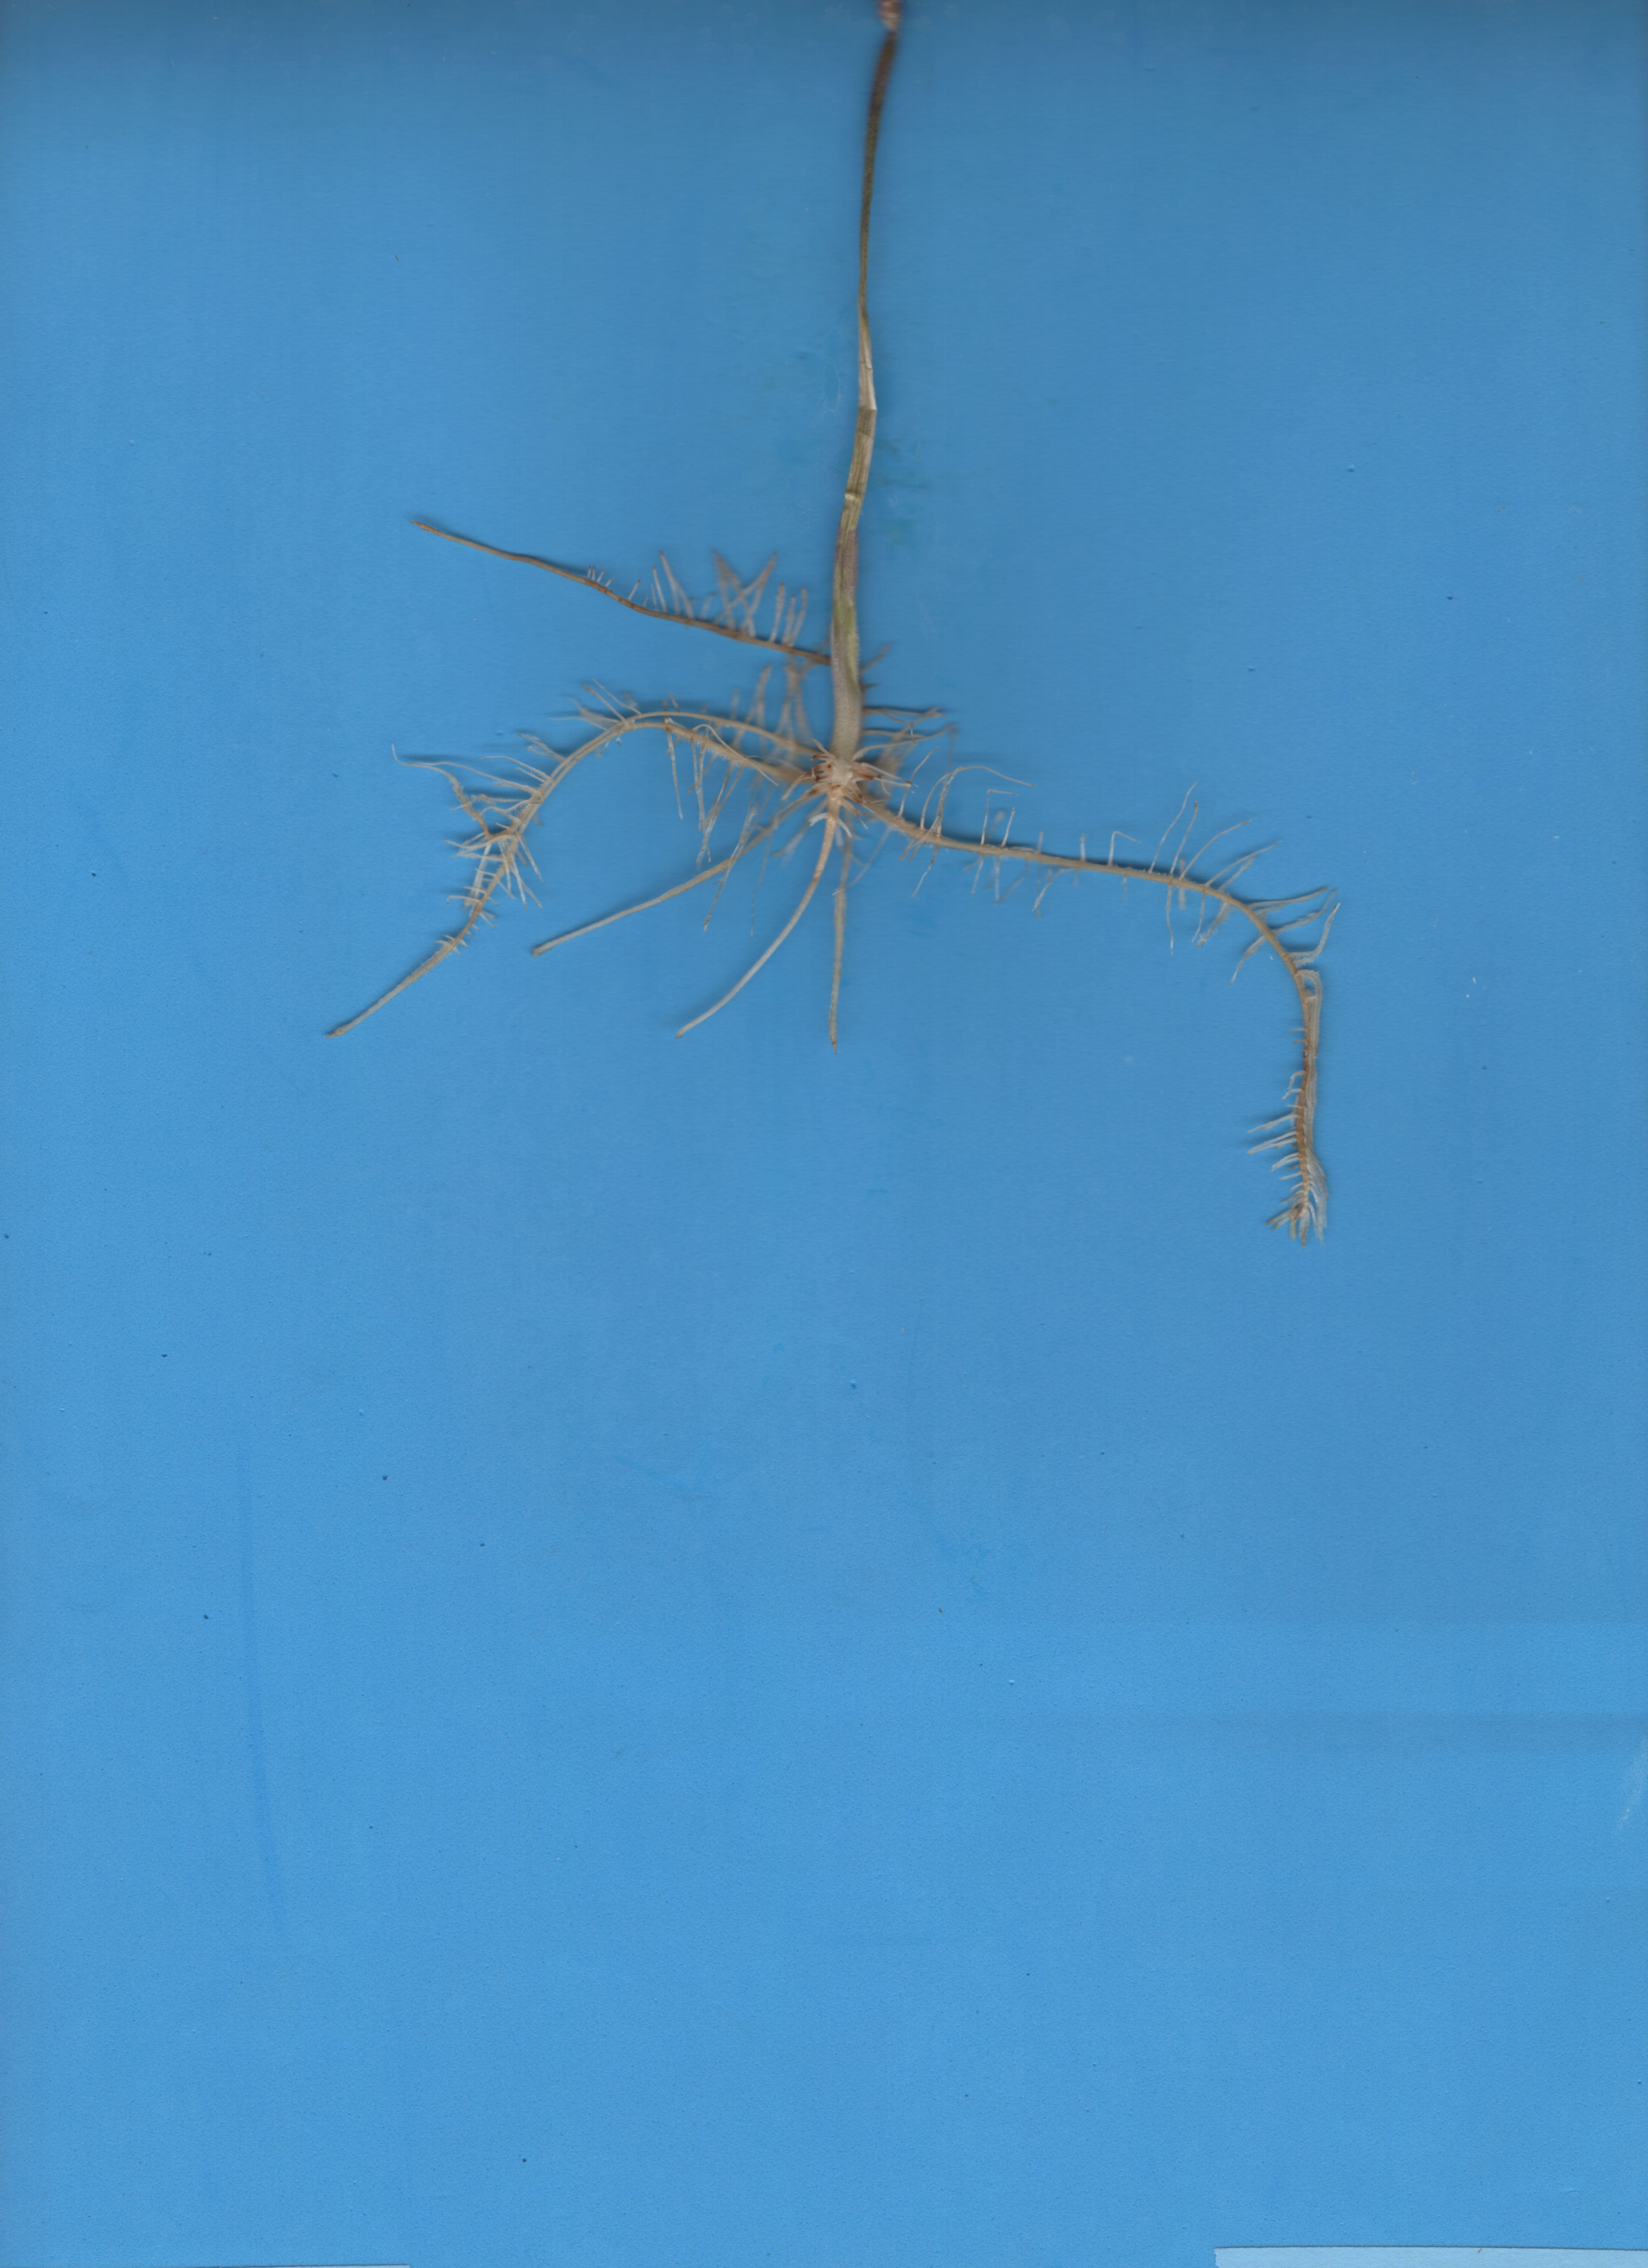CROWNDISEASE: (810, 5, 905, 761)
ROOTGOOD: (275, 463, 1560, 1287)
